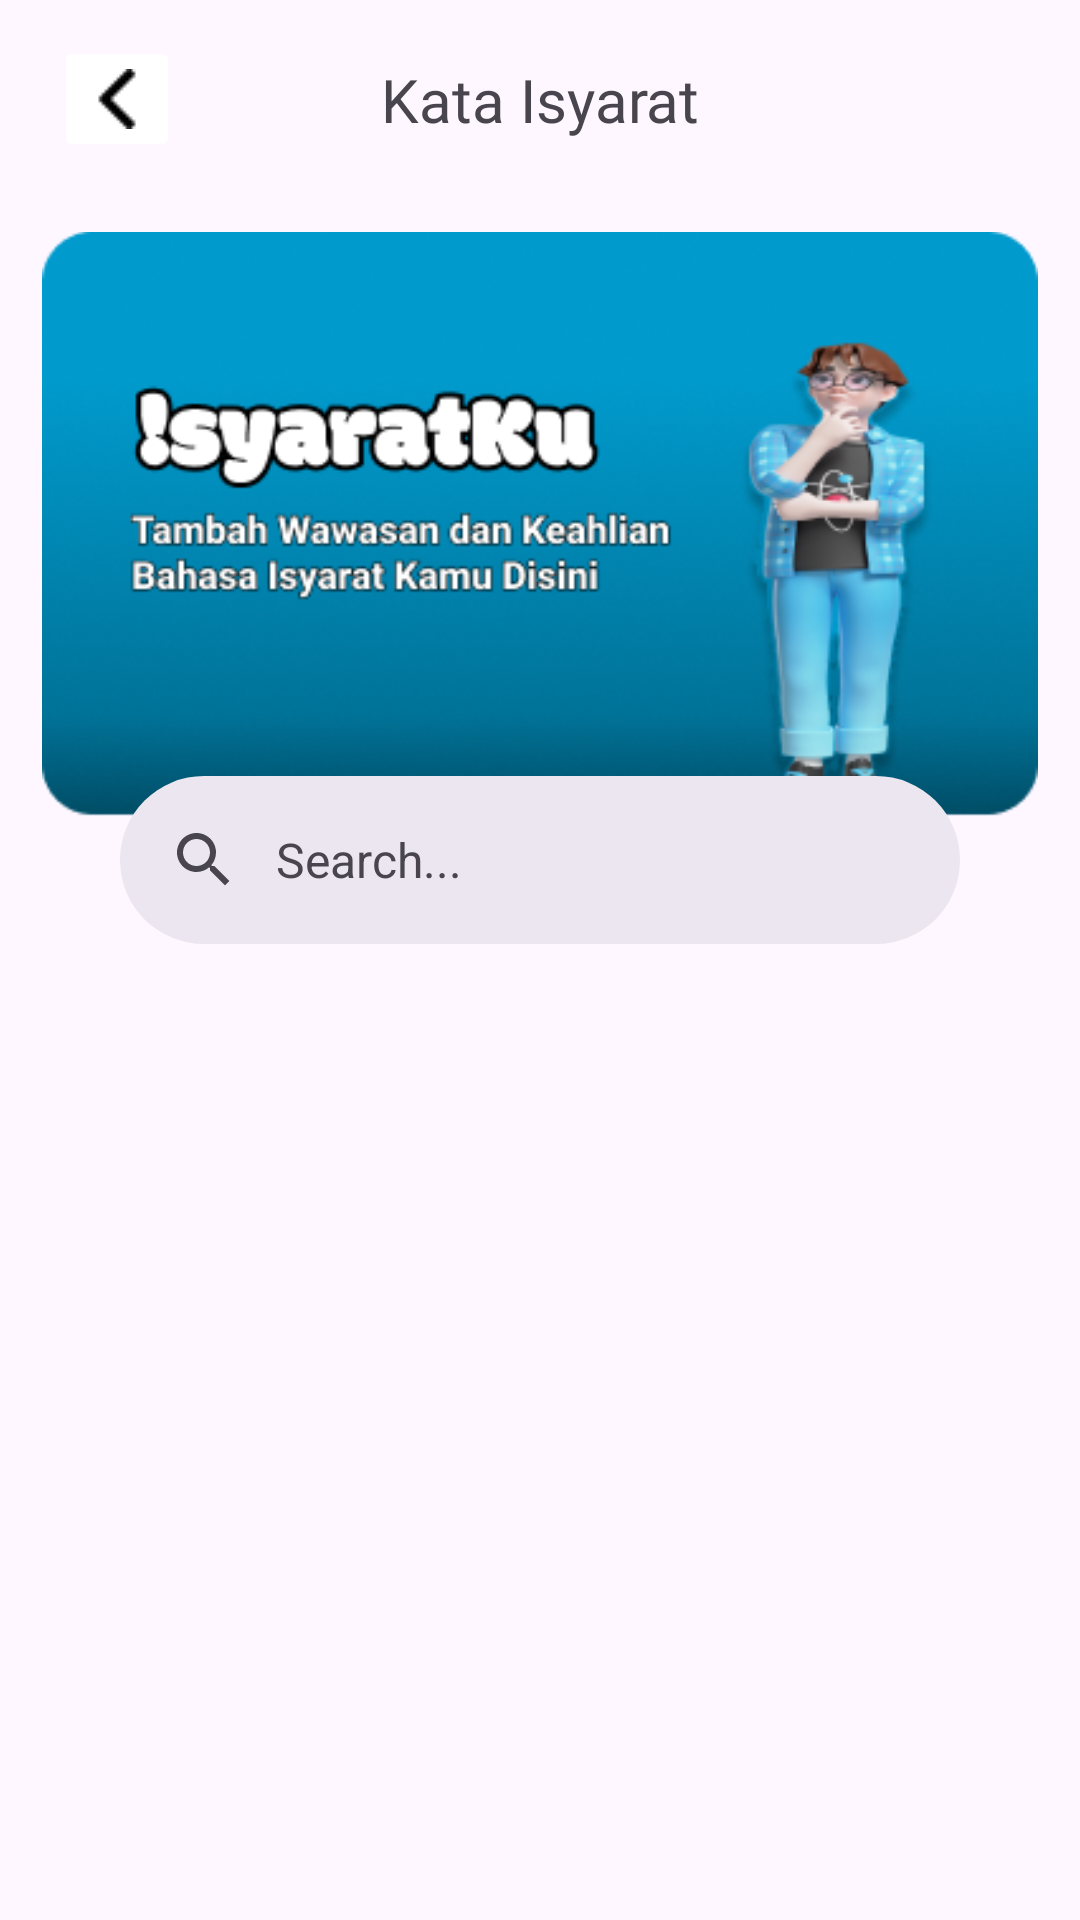

Screen size 1080w x 1920h. Icon name, then its box in pixels as [left=x1, top=y1, right=x2, bottom=y2]:
left arrow: [left=98, top=69, right=136, bottom=129]
